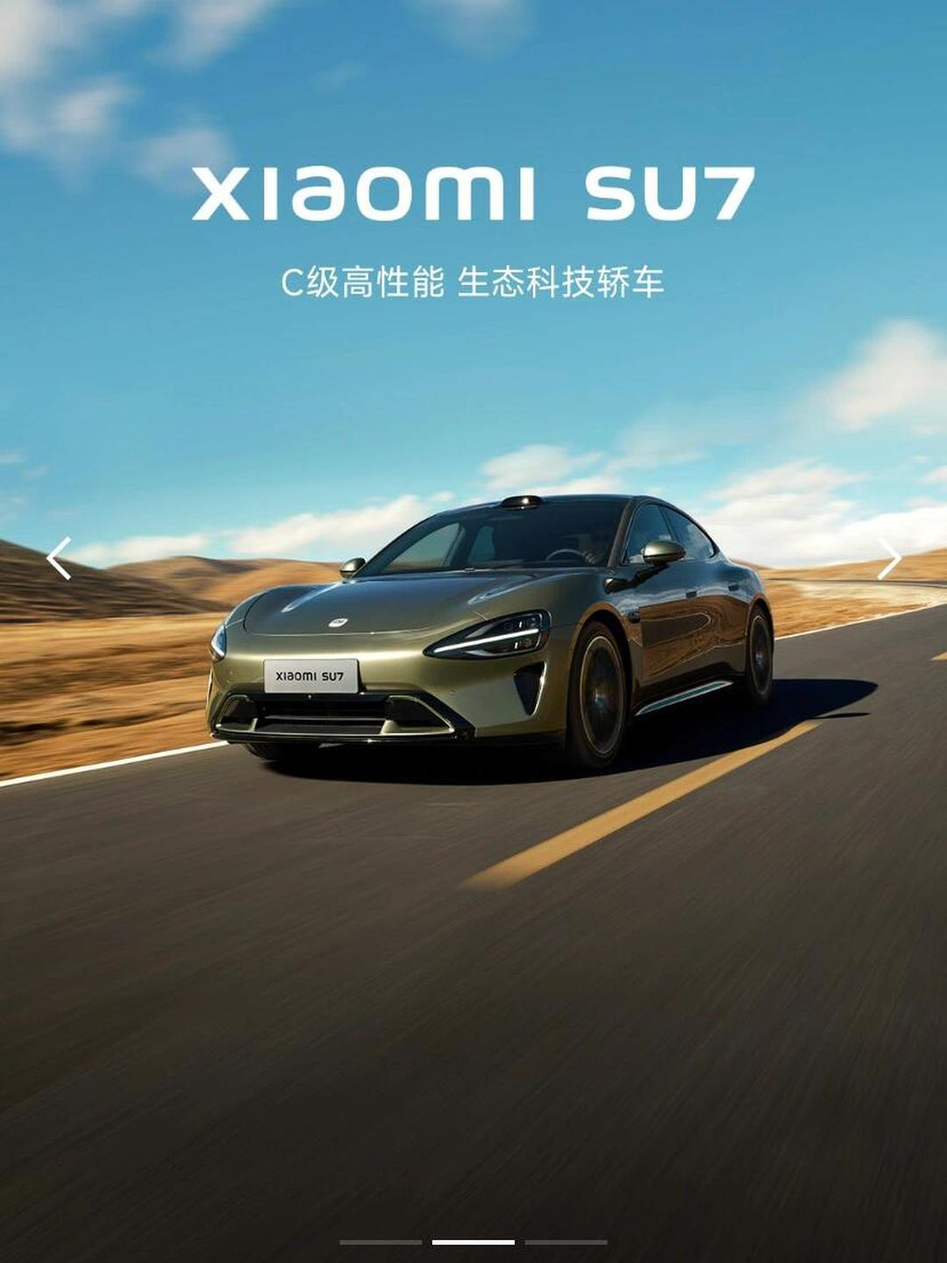su7: (204, 508, 774, 750)
